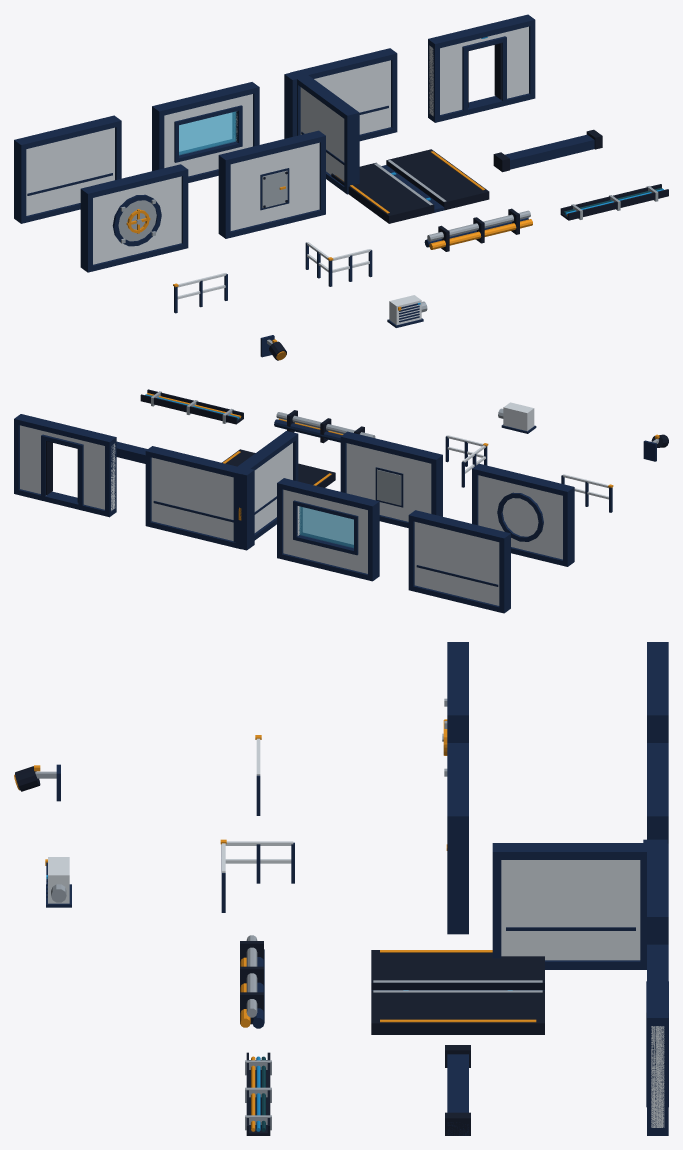
The picture shows the model from 3 angles, top to bottom: view 1: azimuth 30°, elevation 25°; view 2: azimuth 150°, elevation 25°; view 3: azimuth 270°, elevation 25°; orthographic projection. The views are drawn at different scales.
Parts seen in each view (by area): view 1: DL002_StationKit_navy_frame, DL002_StationKit_hull_offwhite, DL002_StationKit_graphite_navy, DL002_StationKit_titanium, DL002_StationKit_glass_cyan, DL002_StationKit_amber_accent; view 2: DL002_StationKit_hull_offwhite, DL002_StationKit_navy_frame, DL002_StationKit_graphite_navy, DL002_StationKit_glass_cyan, DL002_StationKit_titanium, DL002_StationKit_amber_accent; view 3: DL002_StationKit_navy_frame, DL002_StationKit_graphite_navy, DL002_StationKit_hull_offwhite, DL002_StationKit_titanium, DL002_StationKit_amber_accent.
Boxes of the visible parts, bbox=[...] form: DL002_StationKit_navy_frame: bbox=[14, 14, 594, 357]; DL002_StationKit_hull_offwhite: bbox=[26, 26, 528, 325]; DL002_StationKit_graphite_navy: bbox=[263, 43, 668, 360]; DL002_StationKit_titanium: bbox=[118, 160, 658, 345]; DL002_StationKit_glass_cyan: bbox=[179, 111, 236, 155]; DL002_StationKit_amber_accent: bbox=[126, 151, 567, 342]; DL002_StationKit_hull_offwhite: bbox=[20, 402, 608, 605]; DL002_StationKit_navy_frame: bbox=[14, 414, 656, 613]; DL002_StationKit_graphite_navy: bbox=[45, 389, 668, 502]; DL002_StationKit_glass_cyan: bbox=[299, 506, 353, 548]; DL002_StationKit_titanium: bbox=[151, 391, 658, 505]; DL002_StationKit_amber_accent: bbox=[147, 393, 659, 520]; DL002_StationKit_navy_frame: bbox=[46, 642, 668, 1135]; DL002_StationKit_graphite_navy: bbox=[15, 766, 544, 1135]; DL002_StationKit_hull_offwhite: bbox=[48, 738, 664, 1127]; DL002_StationKit_titanium: bbox=[35, 698, 542, 1130]; DL002_StationKit_amber_accent: bbox=[34, 719, 536, 1131].
Size of the model in its own units: 20.5 by 3.07 by 15.09.
